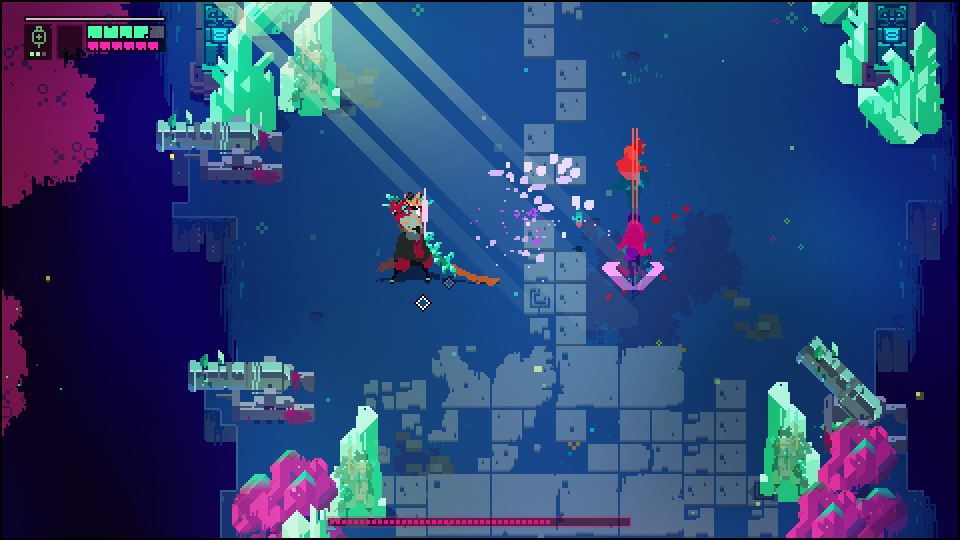hanged_man: (380, 186, 463, 284)
player: (612, 136, 644, 185)
